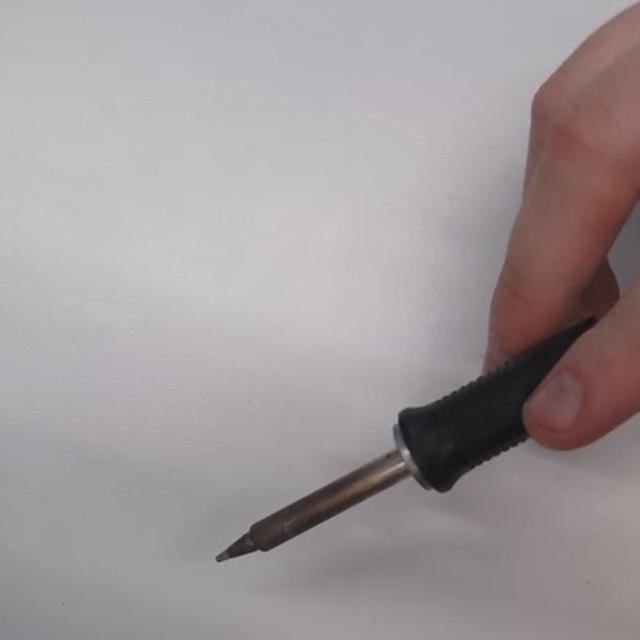soldering_iron: (214, 317, 598, 565)
